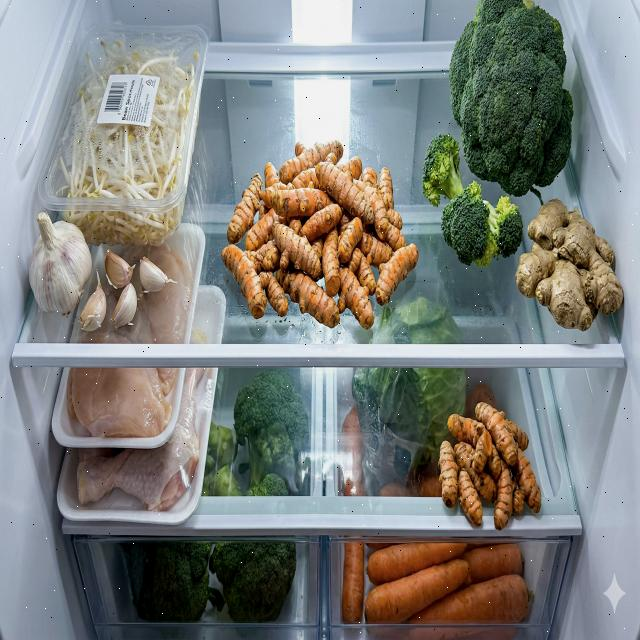bean_sprouts: (55, 40, 199, 246)
brocolli: (448, 0, 574, 197), (422, 133, 523, 268), (233, 370, 309, 492), (213, 542, 297, 624), (130, 540, 210, 622)
cabbage: (370, 298, 467, 466)
carrot: (342, 542, 532, 626)
chicken: (68, 244, 194, 436), (77, 328, 207, 512)
garlic: (80, 251, 178, 332), (28, 212, 92, 316)
ginger: (515, 199, 624, 332)
turmeric: (222, 139, 418, 329), (438, 402, 542, 530)
